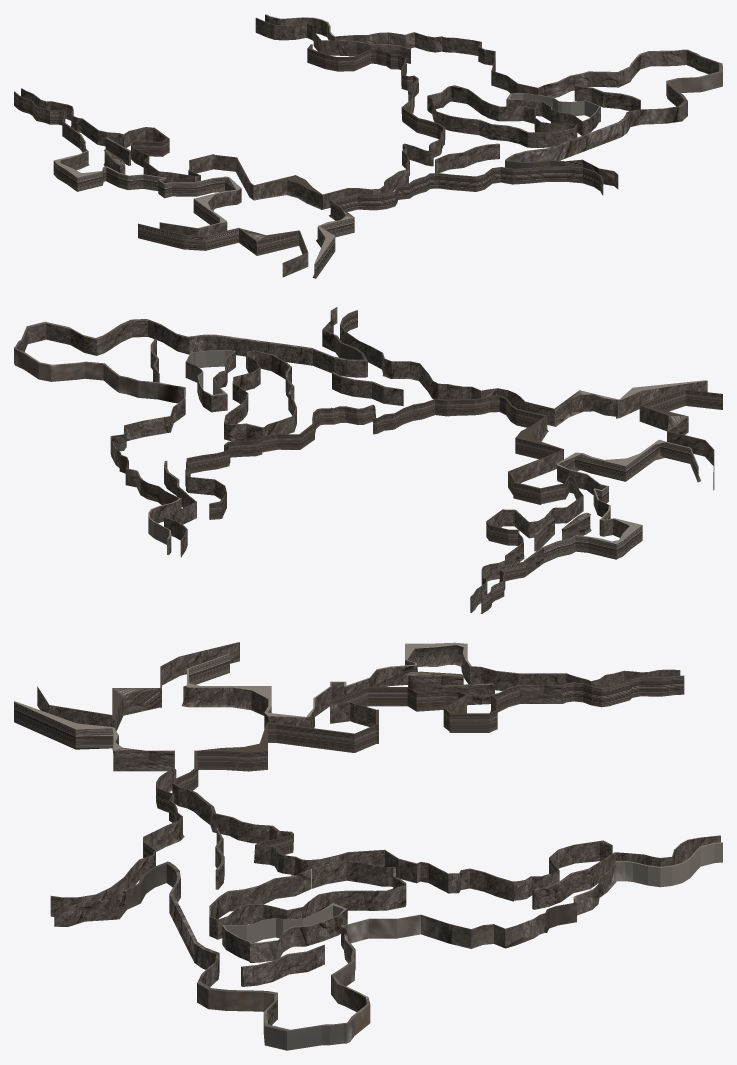
File: TunnelsUpdated.fbx
3 renders of one model, top to bottom at view 1: azimuth 30°, elevation 25°; view 2: azimuth 150°, elevation 25°; view 3: azimuth 270°, elevation 25°, orthographic. The views are drawn at different scales.
Parts seen in each view (by area): view 1: TunnelWalls8, TunnelWalls1, TunnelWalls2, TunnelWalls6, TunnelWalls10, TunnelWalls5, TunnelWalls9, TunnelWalls11, TunnelWalls7, TunnelWalls12; view 2: TunnelWalls8, TunnelWalls1, TunnelWalls2, TunnelWalls6, TunnelWalls10, TunnelWalls5, TunnelWalls11, TunnelWalls9, TunnelWalls7, TunnelWalls3; view 3: TunnelWalls1, TunnelWalls8, TunnelWalls2, TunnelWalls10, TunnelWalls6, TunnelWalls11, TunnelWalls5, TunnelWalls9, TunnelWalls12, TunnelWalls3, TunnelWalls4.
Boxes of the visible parts, bbox=[...] form: TunnelWalls8: bbox=[265, 14, 722, 189]; TunnelWalls1: bbox=[21, 44, 445, 209]; TunnelWalls2: bbox=[14, 91, 241, 235]; TunnelWalls6: bbox=[312, 166, 603, 278]; TunnelWalls10: bbox=[427, 85, 577, 147]; TunnelWalls5: bbox=[138, 223, 308, 277]; TunnelWalls9: bbox=[255, 17, 410, 63]; TunnelWalls11: bbox=[506, 93, 600, 135]; TunnelWalls7: bbox=[435, 143, 499, 172]; TunnelWalls12: bbox=[574, 86, 640, 111]; TunnelWalls8: bbox=[14, 307, 367, 554]; TunnelWalls1: bbox=[185, 395, 583, 612]; TunnelWalls2: bbox=[480, 440, 700, 613]; TunnelWalls6: bbox=[340, 310, 707, 426]; TunnelWalls10: bbox=[224, 350, 296, 441]; TunnelWalls5: bbox=[639, 389, 722, 490]; TunnelWalls11: bbox=[185, 350, 235, 412]; TunnelWalls9: bbox=[164, 461, 196, 557]; TunnelWalls7: bbox=[332, 372, 403, 405]; TunnelWalls3: bbox=[561, 512, 591, 539]; TunnelWalls1: bbox=[172, 675, 684, 901]; TunnelWalls8: bbox=[54, 842, 722, 1050]; TunnelWalls2: bbox=[182, 642, 680, 728]; TunnelWalls10: bbox=[209, 861, 406, 939]; TunnelWalls6: bbox=[14, 701, 184, 916]; TunnelWalls11: bbox=[222, 903, 347, 962]; TunnelWalls5: bbox=[37, 642, 239, 730]; TunnelWalls9: bbox=[532, 835, 720, 909]; TunnelWalls12: bbox=[241, 944, 324, 986]; TunnelWalls3: bbox=[408, 671, 464, 692]; TunnelWalls4: bbox=[441, 683, 494, 705].
Bounding box in the file's own units: 709 × 22.61 × 546.
